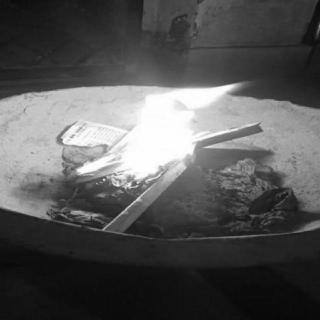Fire: (64, 82, 250, 184)
